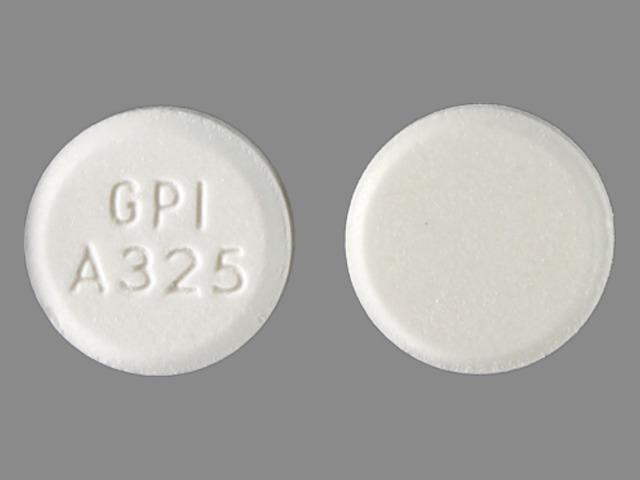Acetaminophen 325 MG Oral Tablet: (11, 97, 306, 389), (334, 95, 623, 382)
